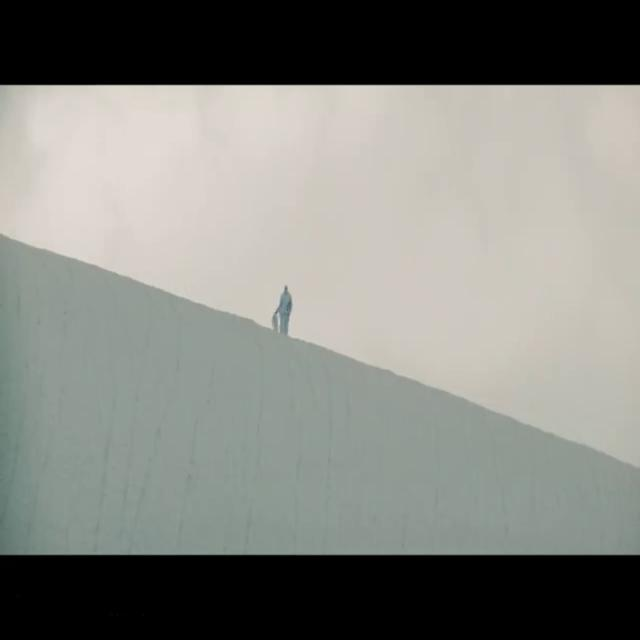human: (271, 286, 292, 335)
